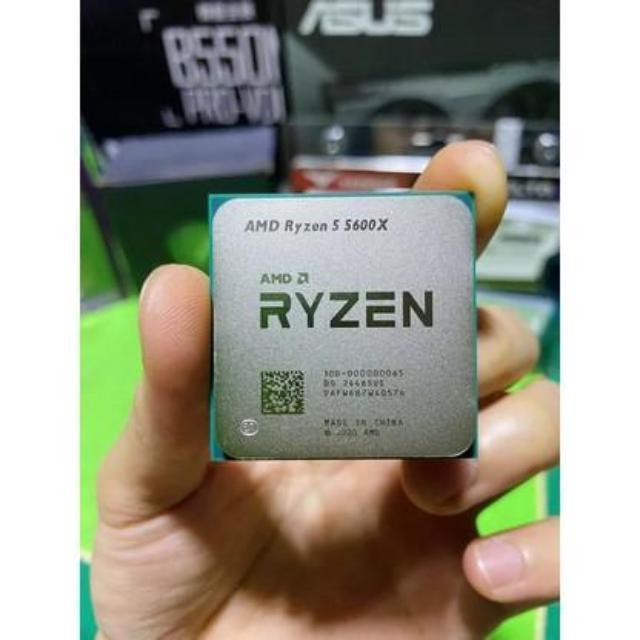CPU: (212, 192, 479, 458)
